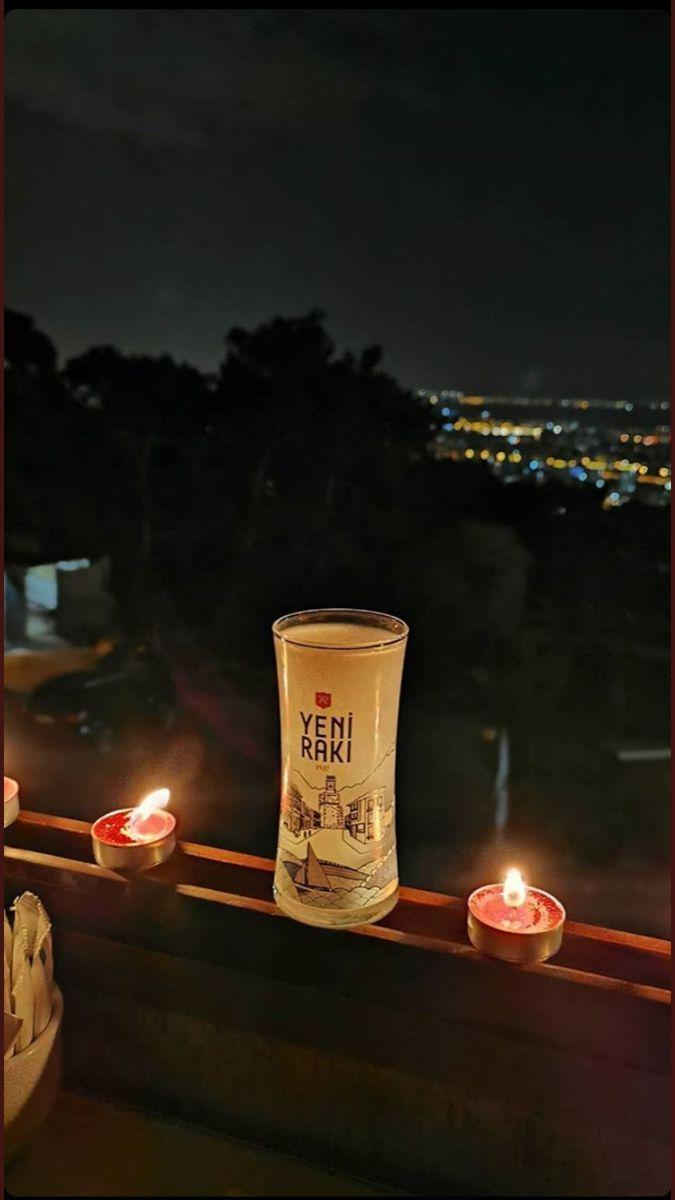glass-normal: (269, 606, 412, 927)
